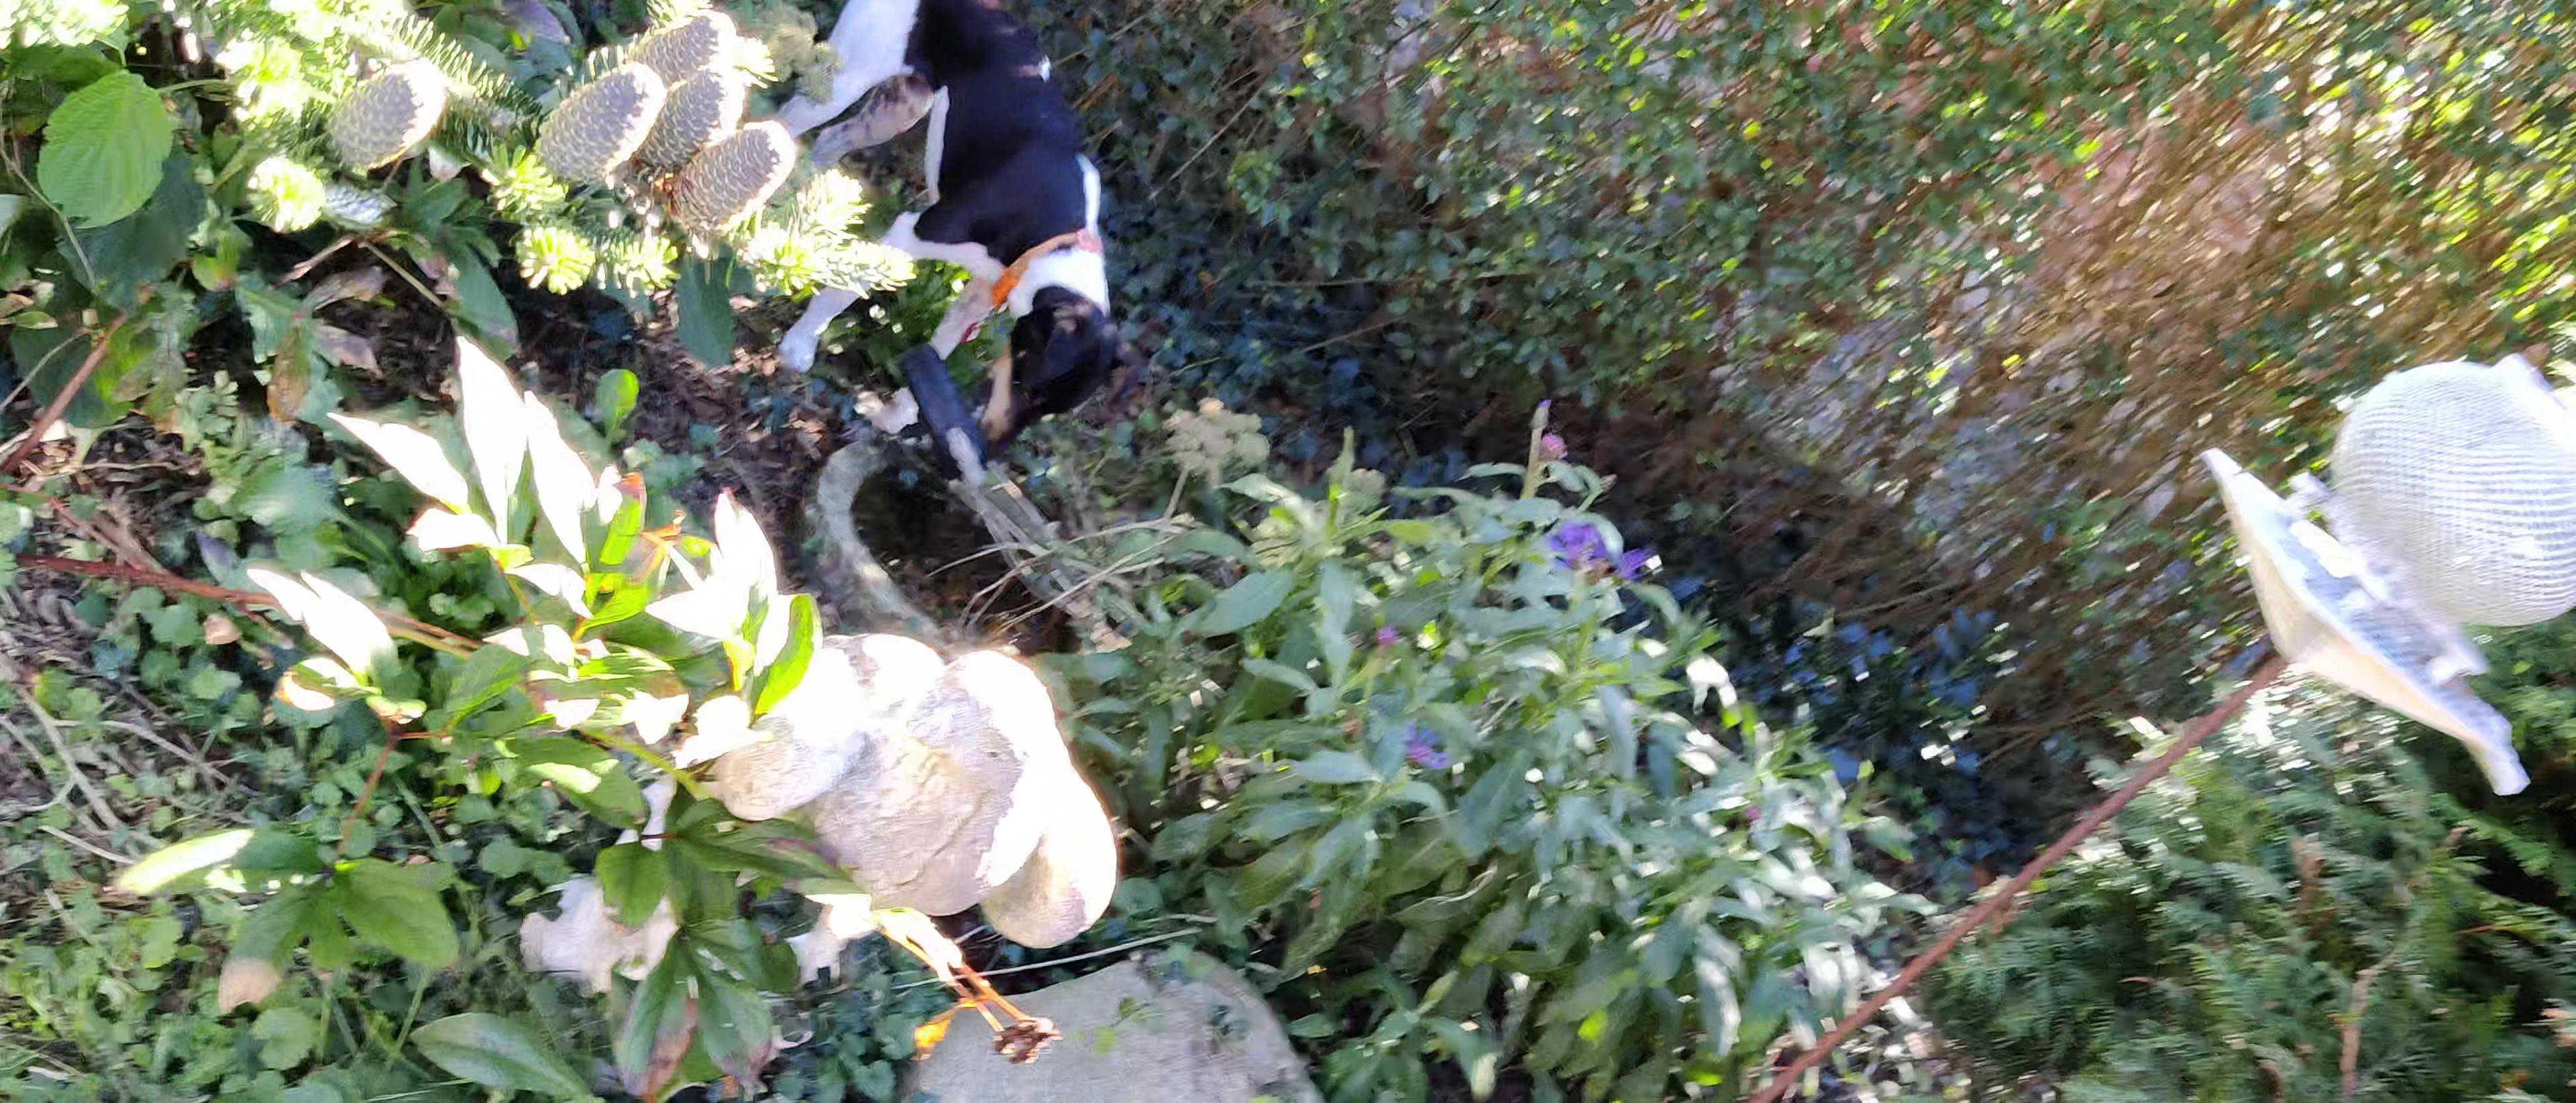Dog: (767, 0, 1138, 465)
